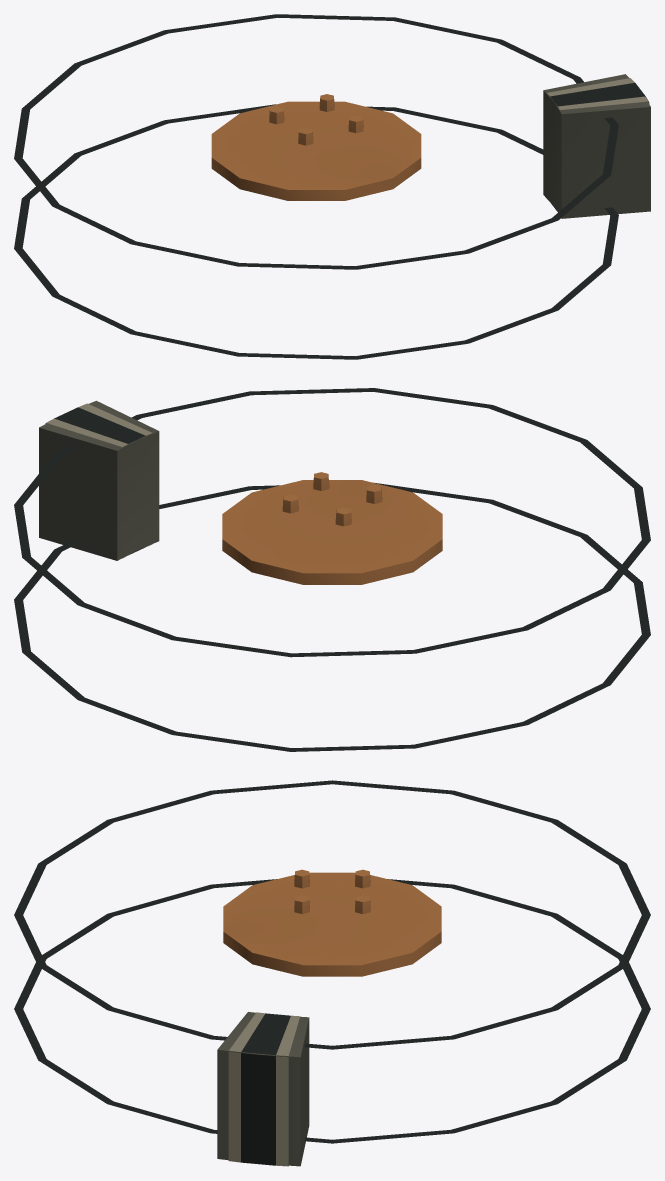
File: valve_wheel_detail2.glb
The picture shows the model from 3 angles, top to bottom: view 1: azimuth 30°, elevation 25°; view 2: azimuth 150°, elevation 25°; view 3: azimuth 270°, elevation 25°; orthographic projection. The views are drawn at different scales.
Visible parts, largest first — view 1: WheelDetail2; view 2: WheelDetail2; view 3: WheelDetail2.
Part boxes in pixels (bbox=[...]): WheelDetail2: bbox=[14, 14, 650, 359]; WheelDetail2: bbox=[14, 388, 650, 751]; WheelDetail2: bbox=[14, 780, 650, 1166].
Bounding box in the file's own units: 3.69 × 0.794 × 3.49.
